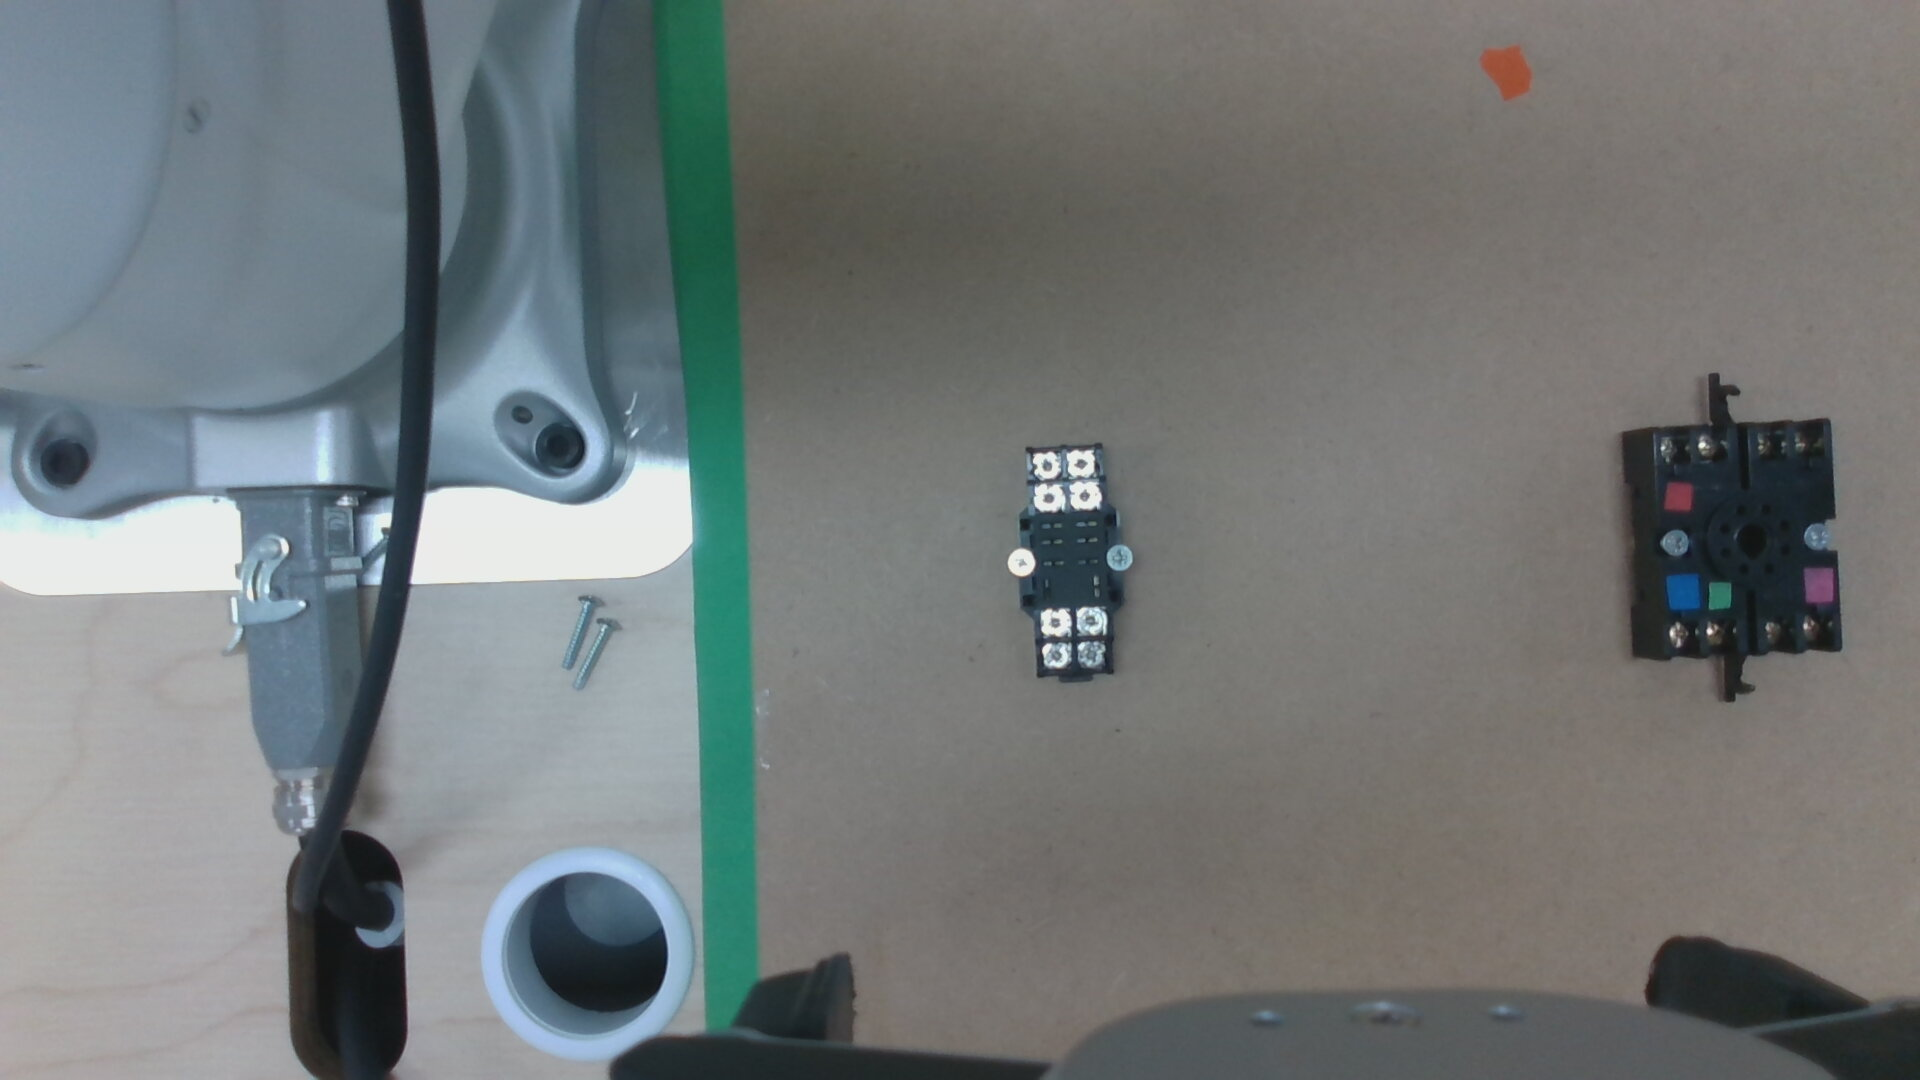relay 3: (1069, 452, 1095, 476)
relay 4: (1033, 454, 1060, 477)
relay 5: (1077, 642, 1104, 666)
relay 6: (1042, 644, 1071, 667)
relay 7: (1077, 609, 1104, 633)
relay 8: (1040, 611, 1069, 636)
